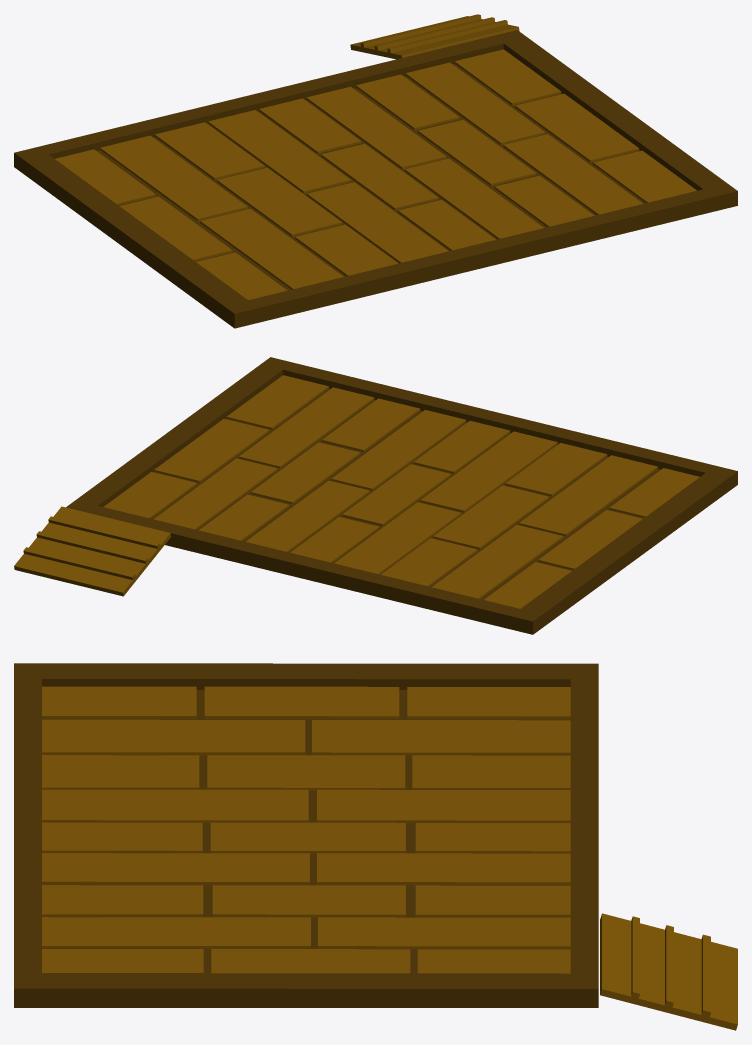
The model's file is floor.fbx.
3 renders of one model, top to bottom at view 1: azimuth 30°, elevation 25°; view 2: azimuth 150°, elevation 25°; view 3: azimuth 270°, elevation 25°, orthographic. The views are drawn at different scales.
Visible parts, largest first — view 1: pCube40; view 2: pCube40; view 3: pCube40.
Boxes of the visible parts, bbox=[...] form: pCube40: bbox=[14, 14, 737, 328]; pCube40: bbox=[14, 357, 737, 634]; pCube40: bbox=[14, 663, 737, 1030].
Size of the model in its own units: 14.42 by 0.8545 by 13.48.
